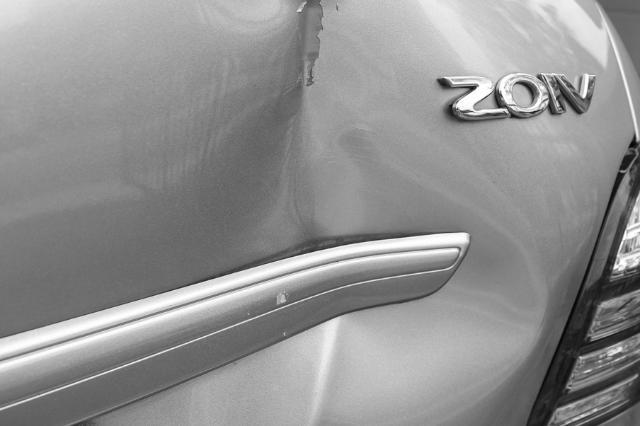Dickey: (227, 7, 555, 426)
